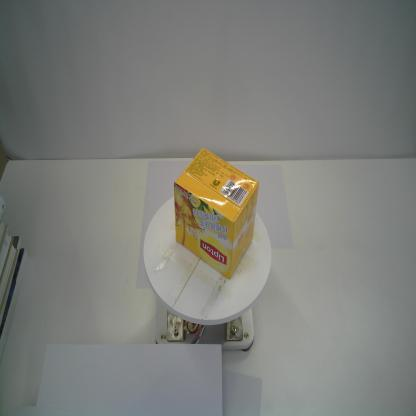Instant Drink: (172, 144, 260, 281)
